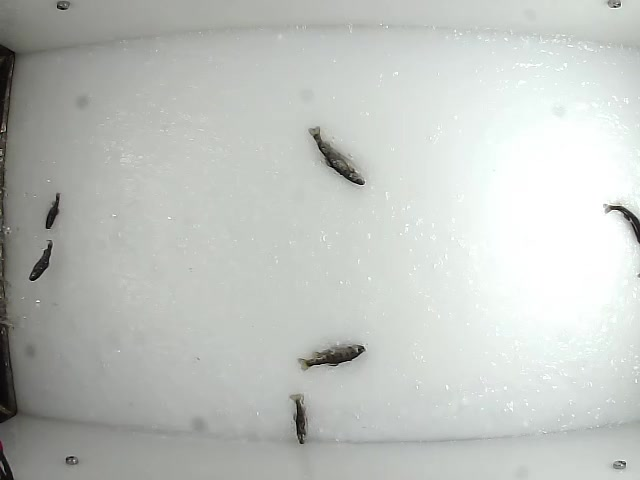fish: (304, 124, 368, 186), (293, 341, 366, 371), (26, 237, 56, 282), (288, 393, 310, 445), (43, 188, 62, 230)
